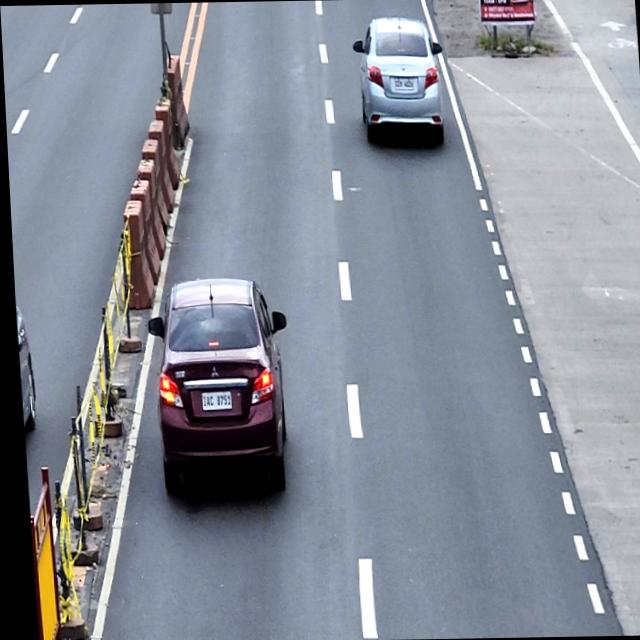Car: (141, 276, 292, 494), (350, 14, 447, 144), (12, 304, 34, 431)
License-Plate: (195, 388, 229, 411), (392, 76, 414, 91)
